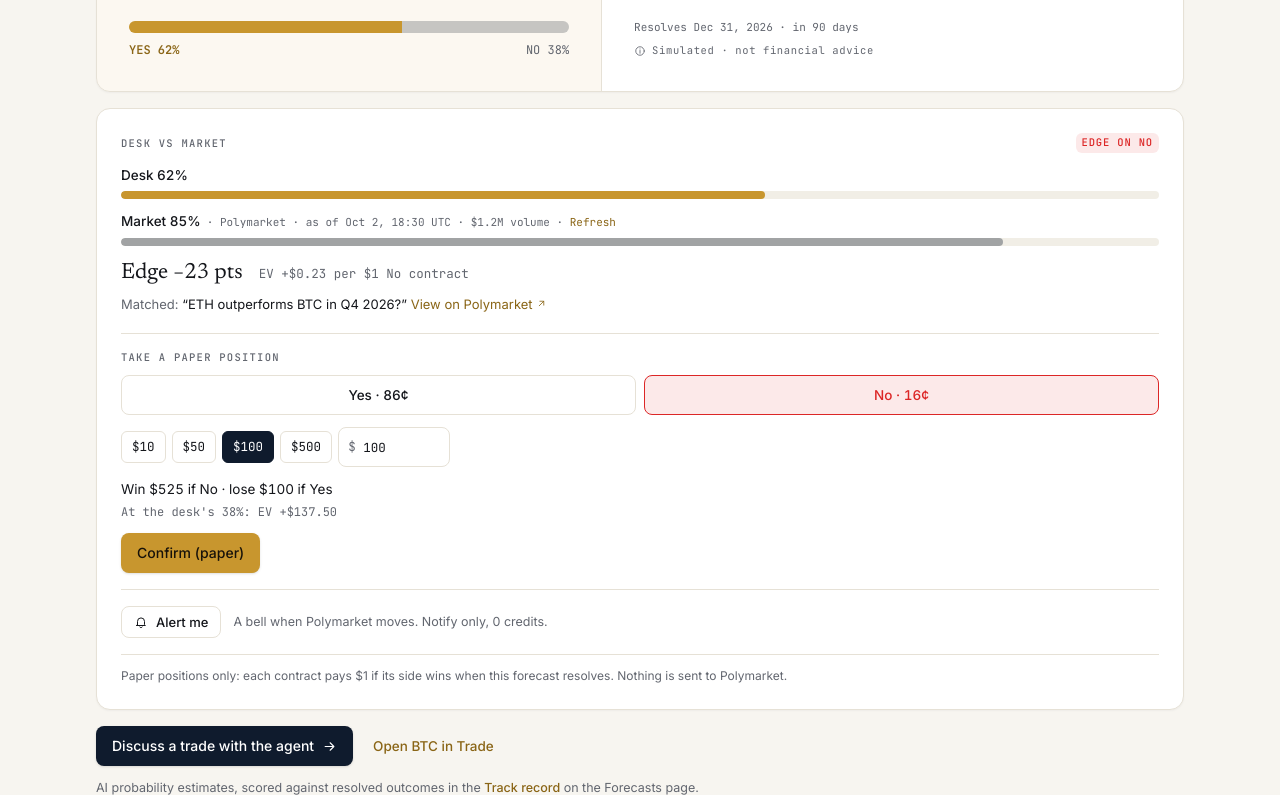
Scenario: DeskVsMarket · Take a paper position › confirms {side, stake}, updates the account and lists the position
This screenshot has width=1280, height=795.
(page scrolled)
Expected: the element "Take a paper position" is shown, [121,333,1159,573]
Click the button "Yes · 86¢".
click(378, 395)  # box [121,375,636,415]
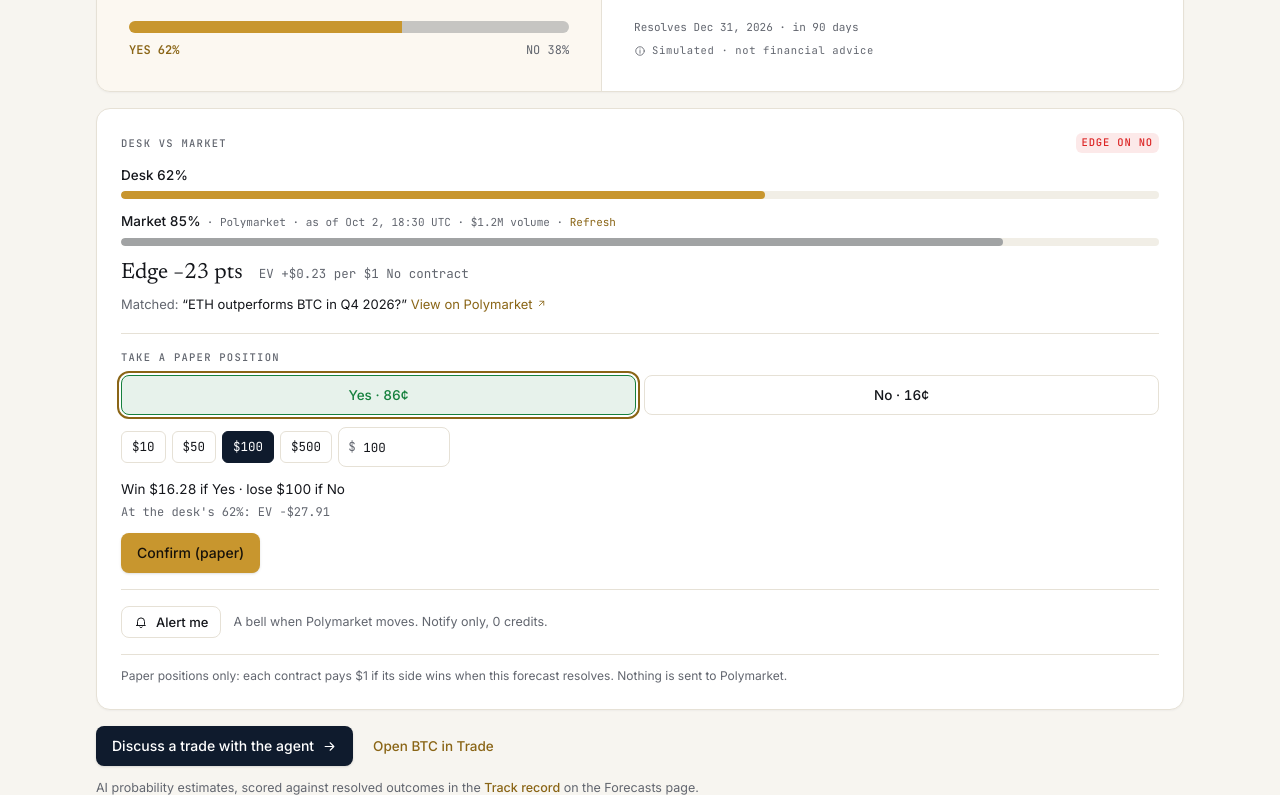
Click the button "Confirm (paper)".
click(191, 553)  # box [121,533,260,573]
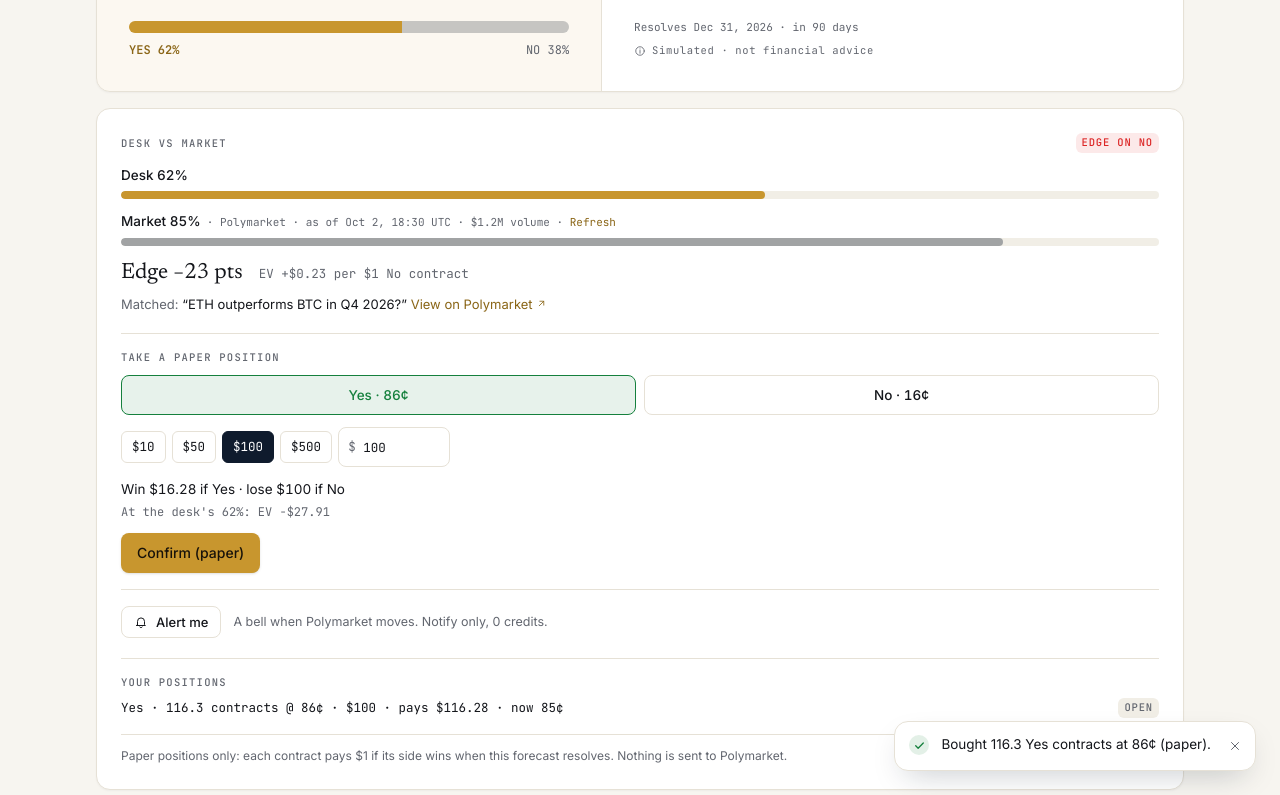
Expected: the text "Bought 116.3 Yes contracts at 86¢ (paper)." is shown, [941,734,1211,755]
Expected: the text "Yes · 116.3 contracts @ 86¢ · $100 · pays $116.28 · now 85¢" is shown, [121,699,564,718]
Expected: the text "Open" is shown, [1118,698,1159,718]
